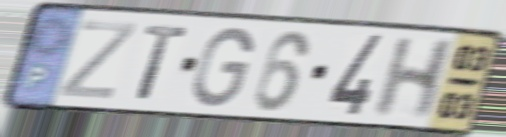4: (326, 32, 384, 119)
6: (251, 28, 314, 114)
G: (188, 25, 257, 110)
H: (368, 36, 460, 121)
T: (134, 22, 191, 104)
Z: (55, 17, 141, 102)
